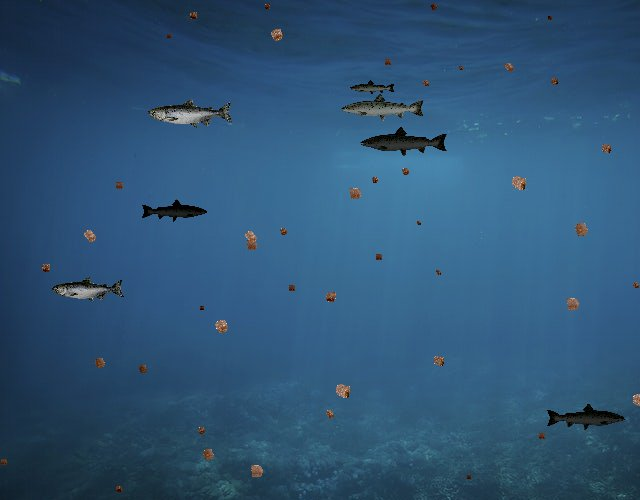Fish: (359, 125, 449, 157), (340, 92, 426, 123), (148, 98, 234, 129), (545, 403, 626, 432), (53, 276, 126, 303), (141, 199, 209, 223), (350, 79, 397, 96)
Pellet: (243, 458, 270, 485), (343, 181, 368, 206), (499, 57, 519, 77), (185, 8, 202, 25), (372, 250, 386, 264), (456, 62, 466, 73)
